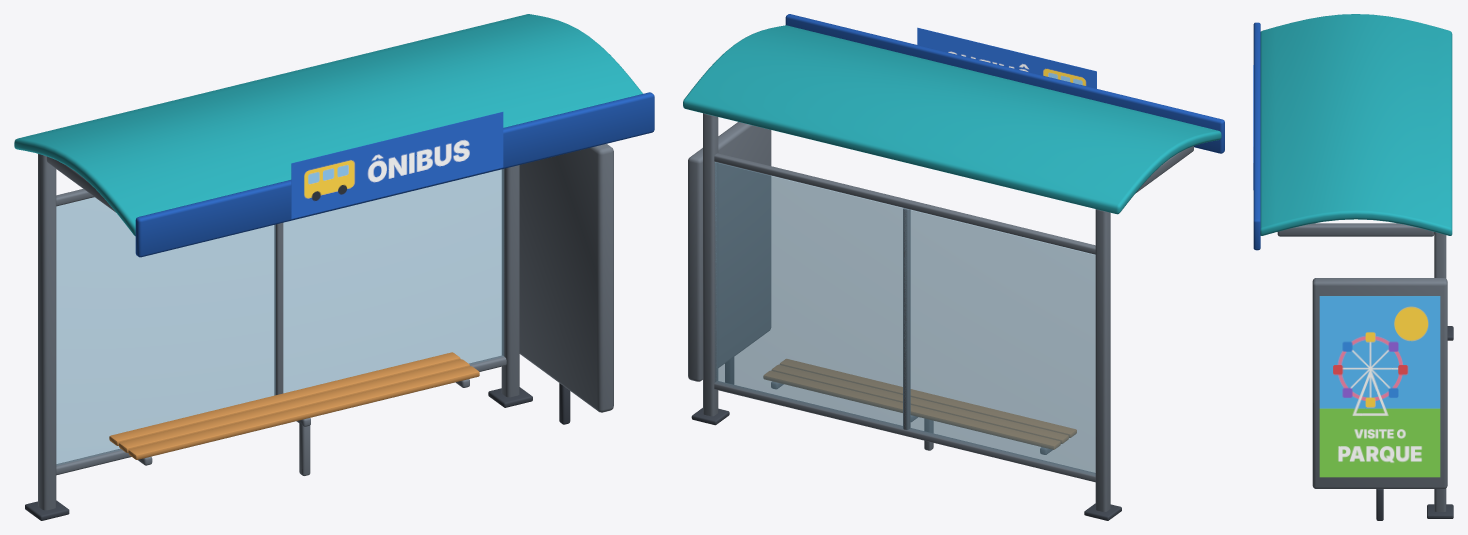
The model's file is ponto_onibus.glb.
3 renders of one model, left to right at view 1: azimuth 30°, elevation 25°; view 2: azimuth 150°, elevation 25°; view 3: azimuth 270°, elevation 25°, orthographic. The views are drawn at different scales.
Visible parts, largest first — view 1: ponto_onibus; view 2: ponto_onibus; view 3: ponto_onibus.
Part boxes in pixels (x1=…): ponto_onibus: x1=14, y1=14, x2=654, y2=520; ponto_onibus: x1=683, y1=14, x2=1224, y2=520; ponto_onibus: x1=1253, y1=14, x2=1453, y2=520.
Bounding box in the file's own units: 3.9 × 2.92 × 1.66.
Materials: 5 (3 with a texture image).
